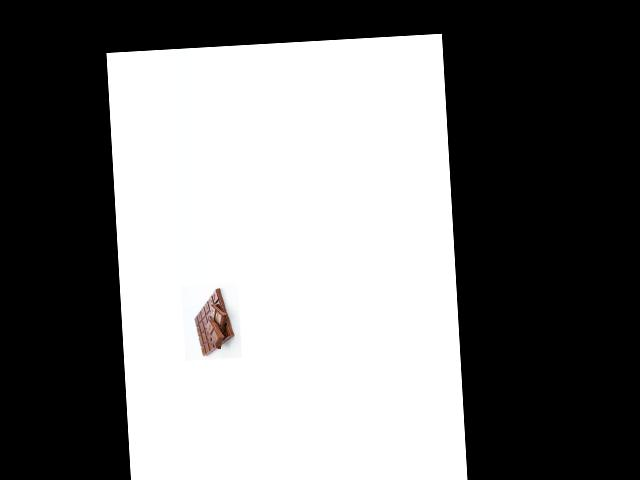chocolate: (189, 286, 238, 357)
